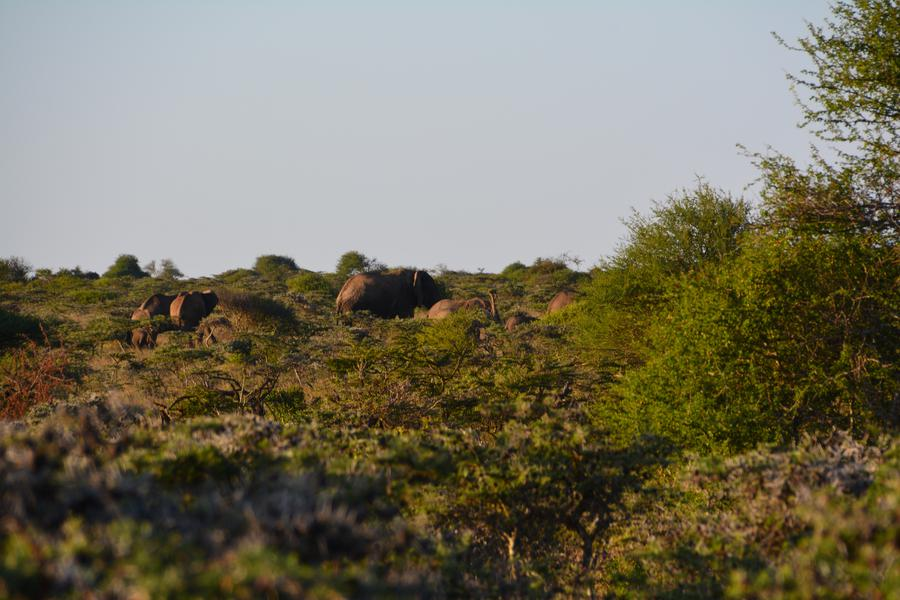elephant: (336, 270, 439, 320), (168, 284, 223, 326)
